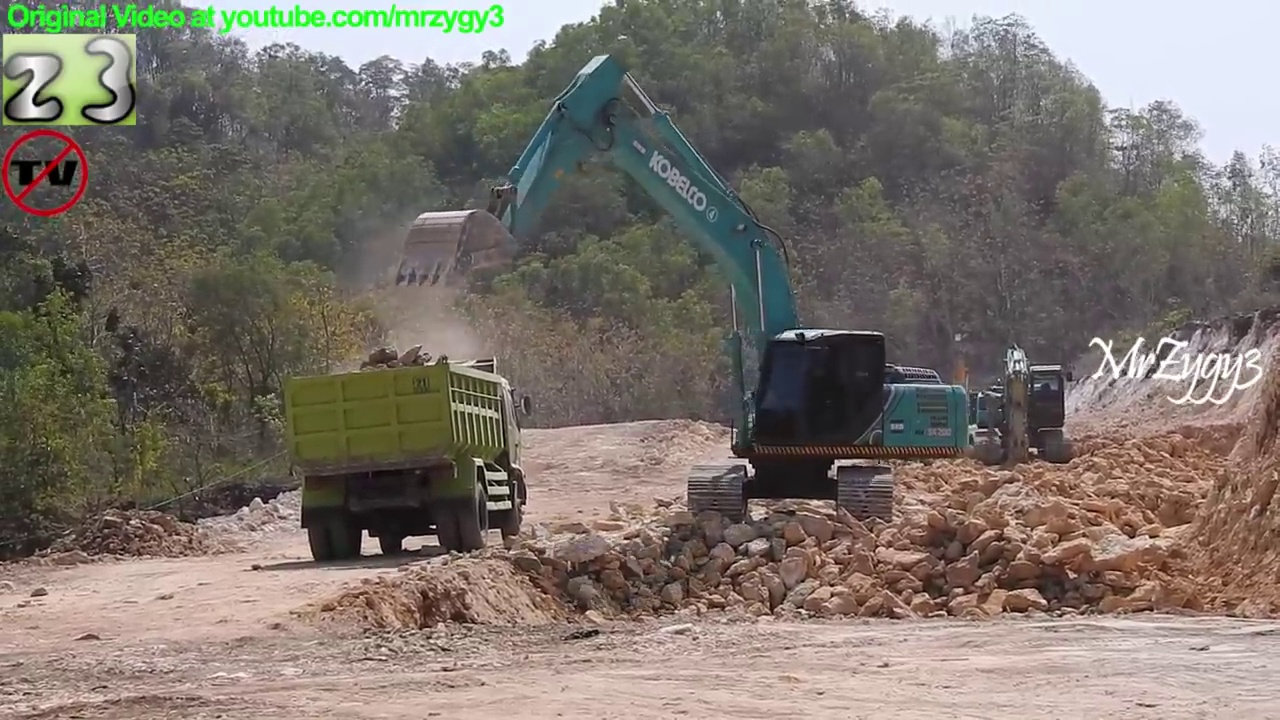excavator: (396, 55, 974, 520)
truck: (276, 357, 533, 544)
